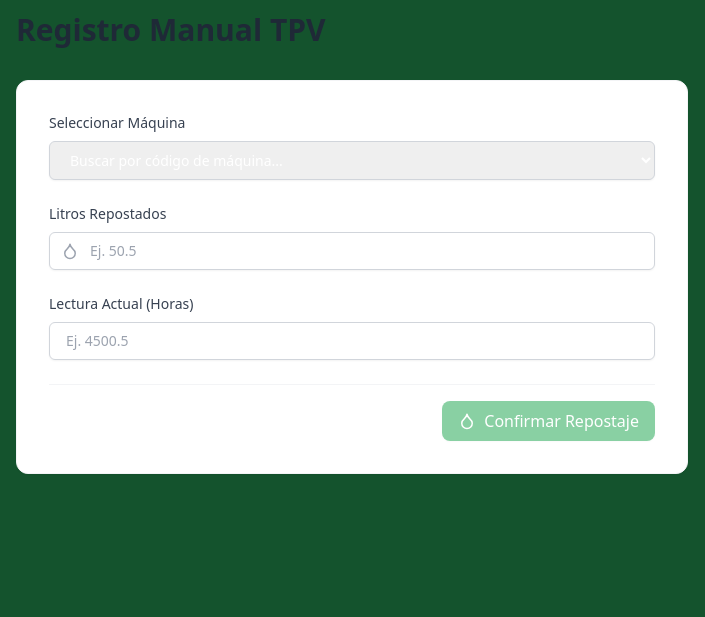
Test case: RegistroManual Component › debe mostrar error si se supera la capacidad máxima
The width and height of the screenshot is (705, 617).
Select "EXC-001 (Max: 200 L)" in the dropdown labelled "Seleccionar Máquina": [352, 160] box [49,141,655,180]
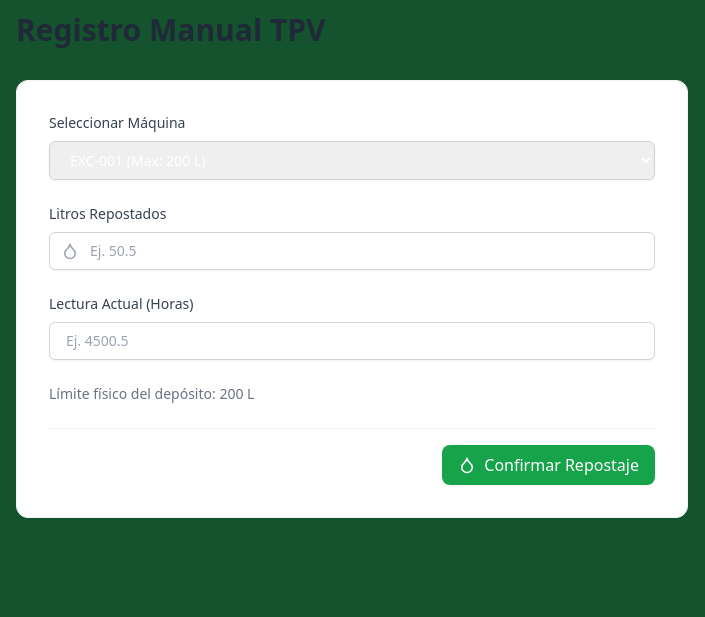
In the number field labelled "Litros Repostados": [352, 251] box [49,232,655,270], type "250"
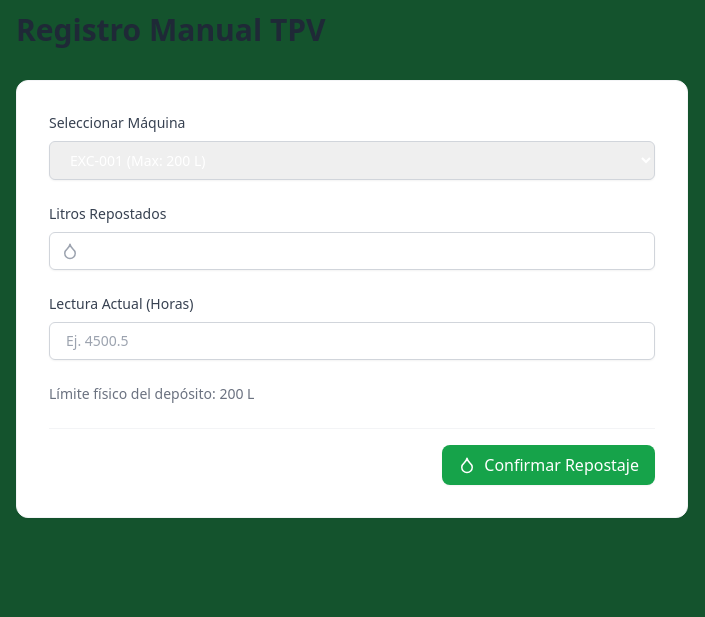
In the number field labelled "Lectura Actual (Horas)": [352, 341] box [49,322,655,360], type "1000"
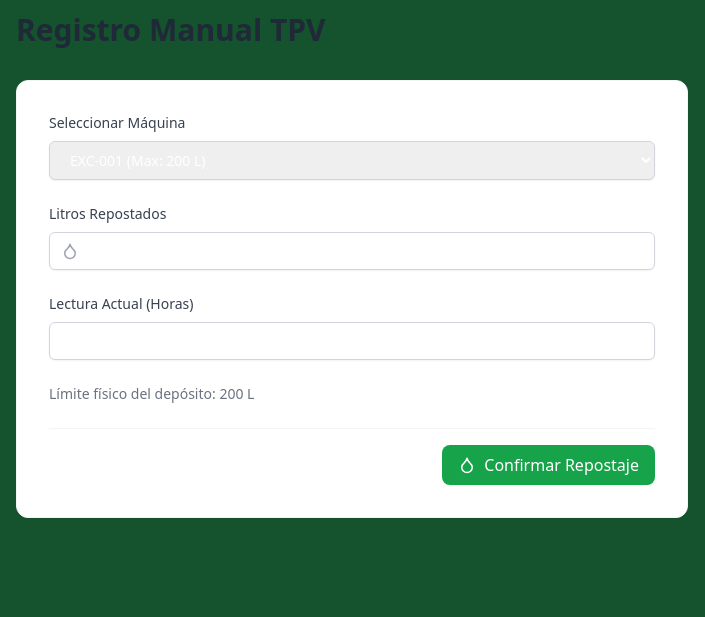
Click the button "Confirmar Repostaje": [549, 465] box [442,445,655,485]
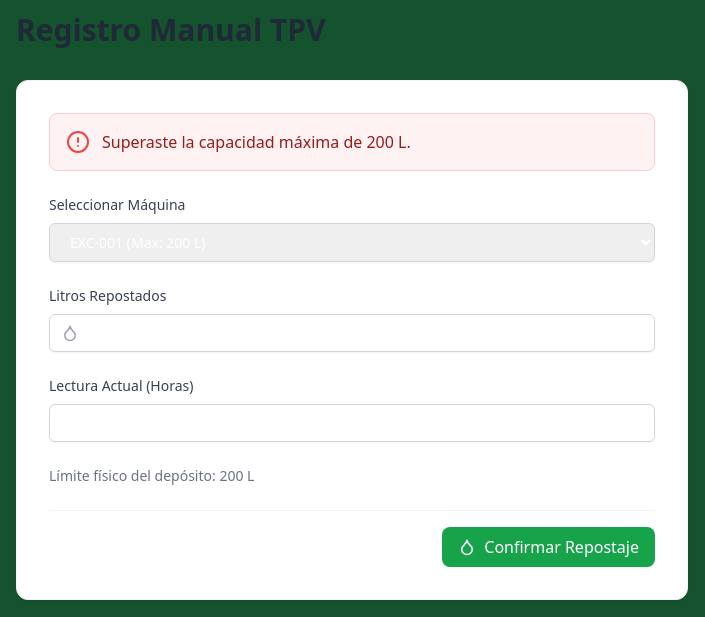
Now the text "Superaste la capacidad máxima de 200 L." is shown, box [102,130,411,154]
